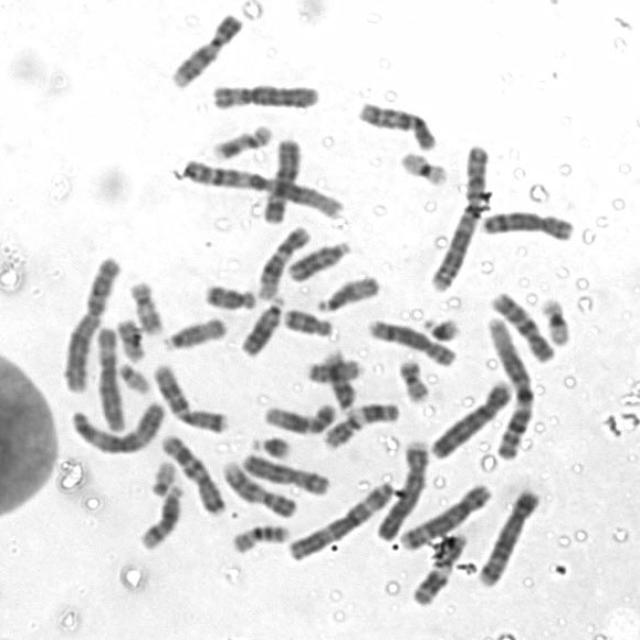A1: (177, 153, 348, 221), (482, 311, 537, 461)
A2: (426, 138, 490, 294), (57, 250, 124, 394)
A3: (283, 474, 397, 562), (66, 396, 168, 455)
B4: (426, 374, 515, 462), (373, 433, 432, 541)
B5: (473, 484, 543, 588), (397, 478, 494, 550)
C10: (485, 284, 558, 364), (354, 95, 441, 152)
C11: (406, 528, 470, 608), (316, 396, 402, 451)
C12: (253, 220, 313, 301), (261, 397, 339, 435)
C6: (92, 321, 129, 434), (206, 77, 322, 111)
C7: (157, 429, 230, 517), (147, 358, 230, 435)
C8: (364, 313, 458, 367), (476, 204, 577, 243)
C9: (165, 8, 245, 89), (218, 455, 300, 519)
D13: (283, 234, 353, 284), (235, 292, 288, 358)
D14: (135, 480, 187, 551), (321, 345, 359, 414)
D15: (157, 311, 230, 352), (312, 270, 381, 313)
E16: (226, 519, 292, 555), (302, 352, 365, 384)
E17: (207, 118, 275, 161), (125, 274, 167, 336)
E18: (278, 302, 335, 338), (199, 278, 259, 311)
F19: (396, 145, 451, 187), (536, 292, 574, 347)
F20: (394, 354, 432, 404), (112, 313, 148, 363)
G21: (418, 311, 463, 343), (245, 430, 294, 459)
G22: (112, 356, 152, 394), (146, 455, 179, 498)
X: (236, 448, 334, 498), (258, 132, 304, 226)
